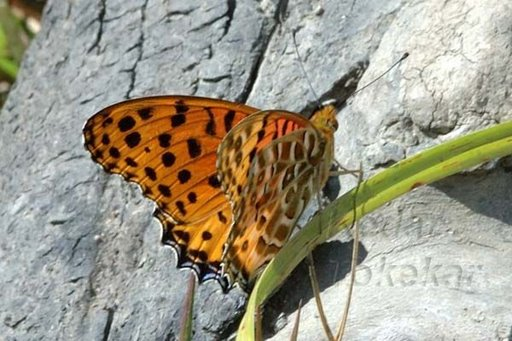Argyreus hyperbius: (76, 24, 411, 296)
butterfly: (78, 26, 413, 298)
